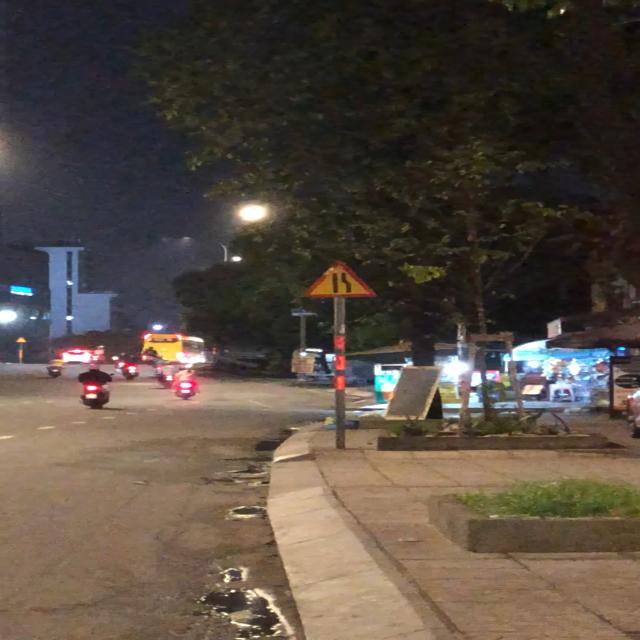Bien bao duong bi thu hep: (296, 256, 398, 301)
